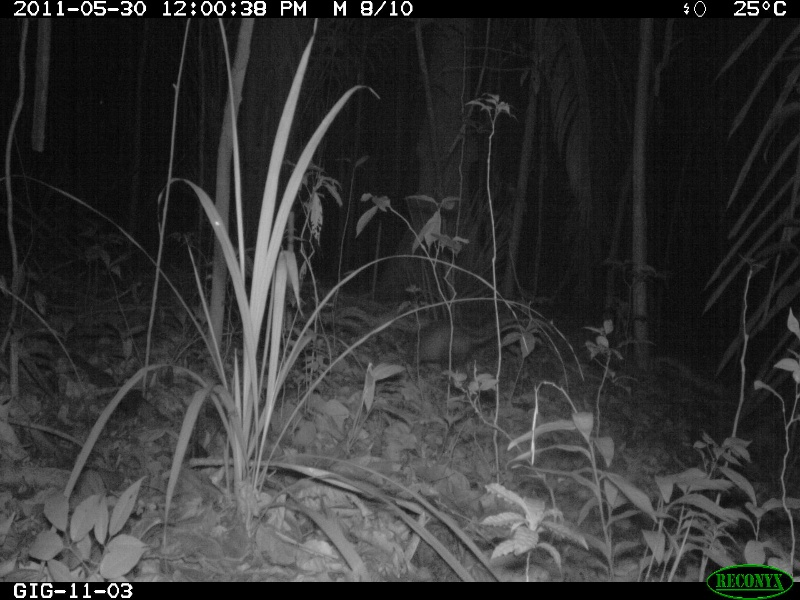opossum: (398, 315, 520, 370)
